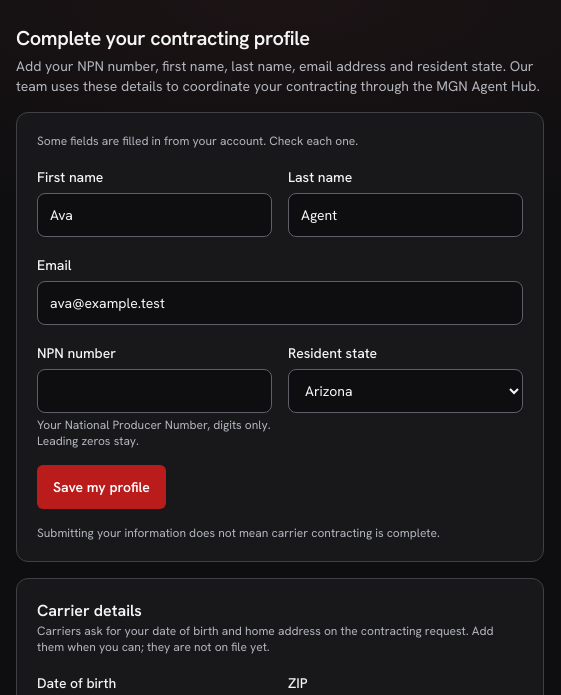
Complete your contracting profile › names the field that is missing and sends nothing
The image size is (561, 695).
Expected: the field labelled "First name" is shown, [37,193,272,237]
Click the button "Save my profile": (102, 487) [37,465,166,509]
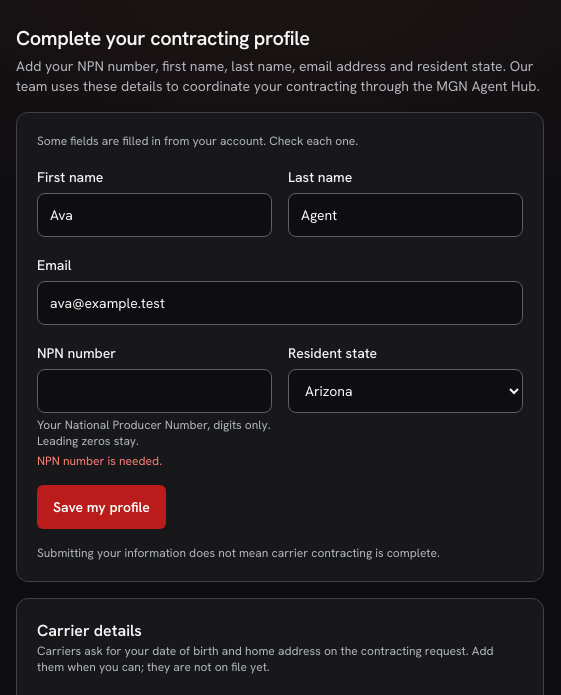
Now the message reads "NPN number is needed.", box [37,453,162,469]
